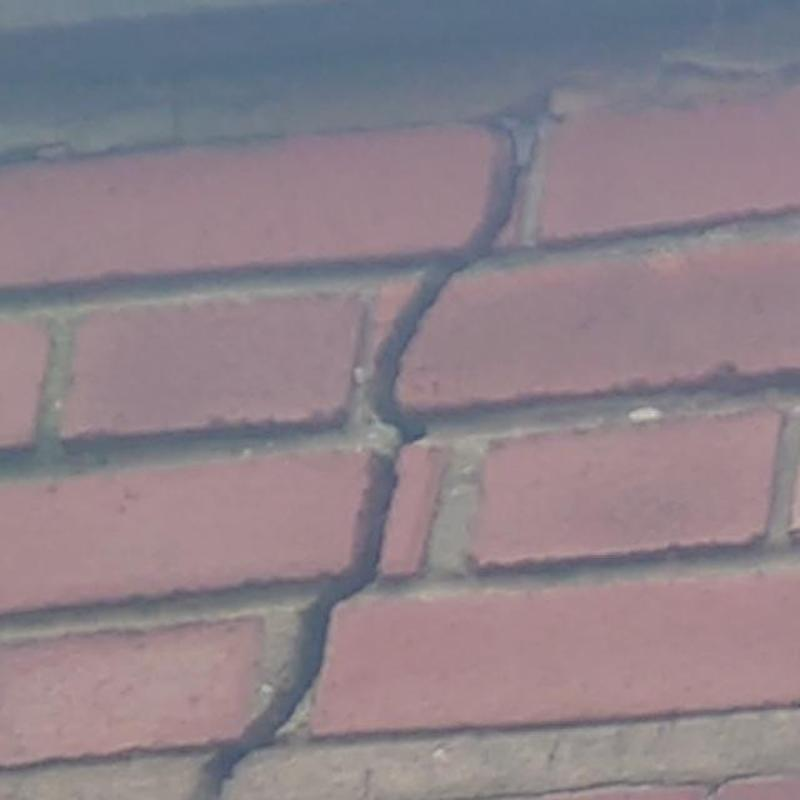pothole: (191, 453, 394, 799), (370, 120, 536, 442)
